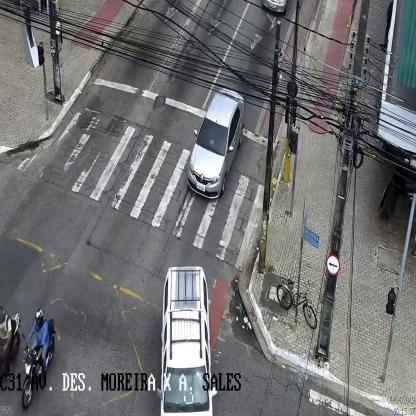bicycle: (278, 277, 317, 329)
car: (156, 266, 218, 415), (187, 87, 247, 200)
motorbike: (22, 307, 56, 410), (0, 306, 20, 379)
